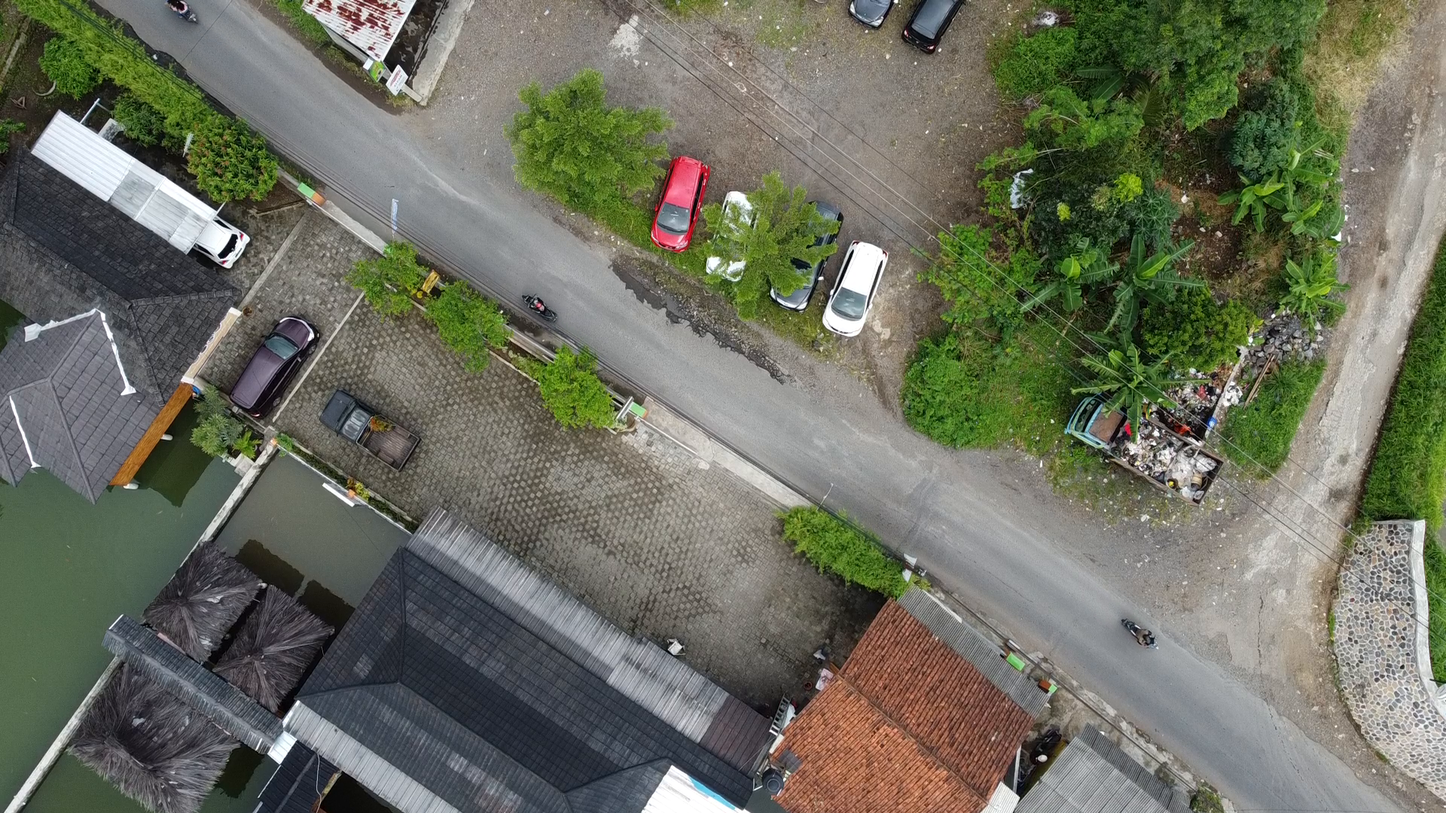mobil: (317, 375, 428, 480), (222, 310, 328, 416), (767, 179, 844, 314), (817, 233, 891, 358), (643, 148, 716, 254), (708, 179, 761, 288), (896, 1, 970, 56), (191, 221, 266, 275)
